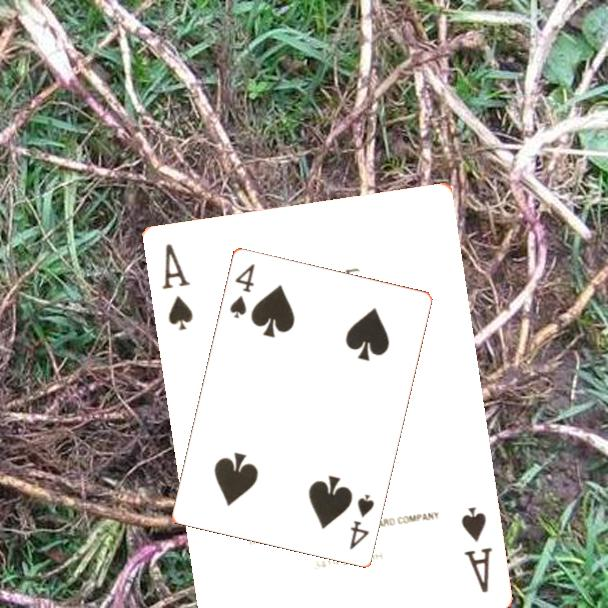s01: (157, 240, 195, 334), (457, 503, 495, 596)
s04: (346, 490, 377, 552), (226, 260, 257, 321)
